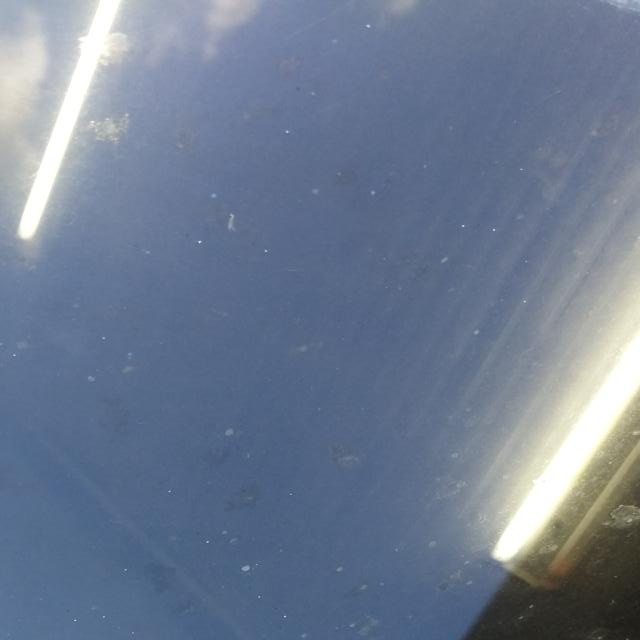fluorescent tube: (466, 206, 640, 584), (8, 0, 139, 265)
